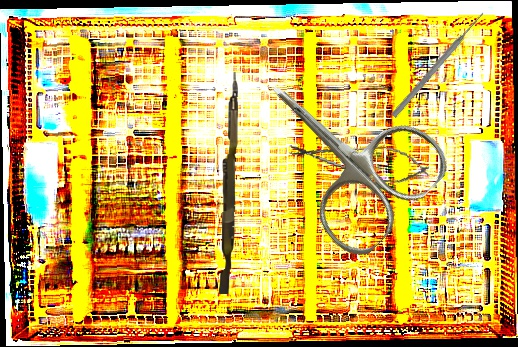Iris Scissors: (224, 33, 459, 267)
Micro Scissor: (286, 134, 433, 188)
Pusher: (390, 9, 487, 120), (219, 71, 239, 295)
